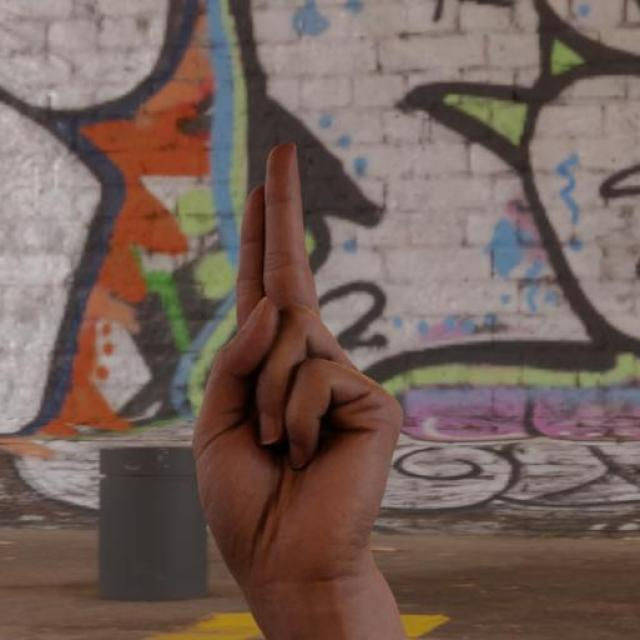U: (182, 139, 412, 572)
